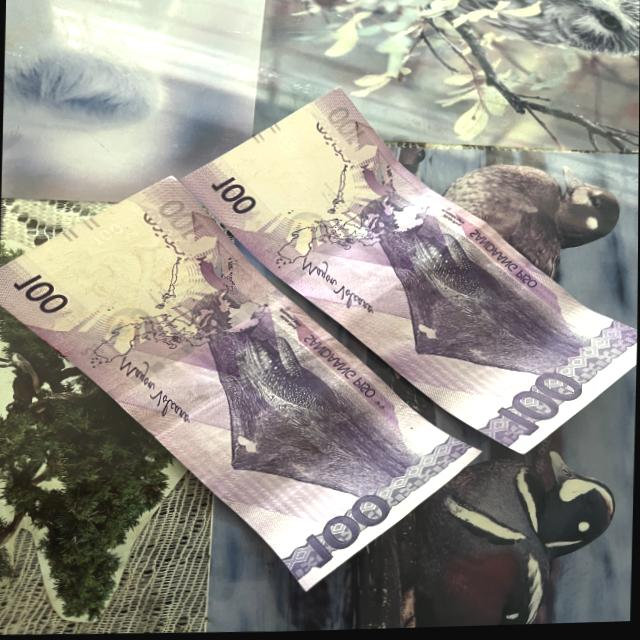100_whale: (220, 303, 352, 436), (396, 215, 519, 316)
100_whale_watermark: (349, 153, 411, 209), (196, 251, 246, 300)
value_watermark: (77, 216, 135, 249)
watermark: (33, 215, 207, 332), (225, 125, 369, 229)
